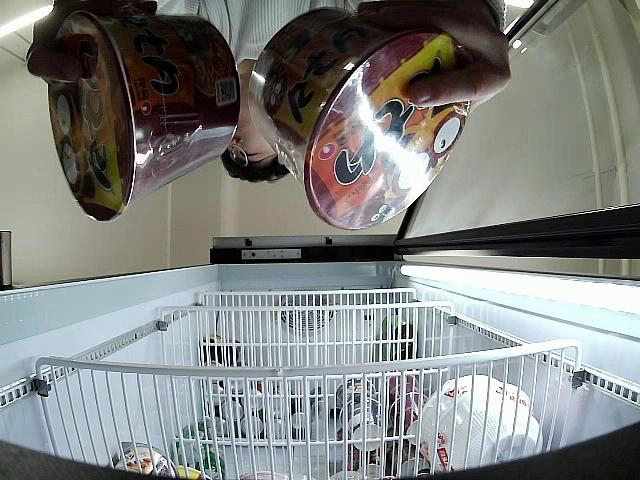00_hand: (358, 0, 513, 114), (22, 0, 158, 80)
05_nuguri_L: (251, 7, 471, 230), (47, 11, 240, 223)
